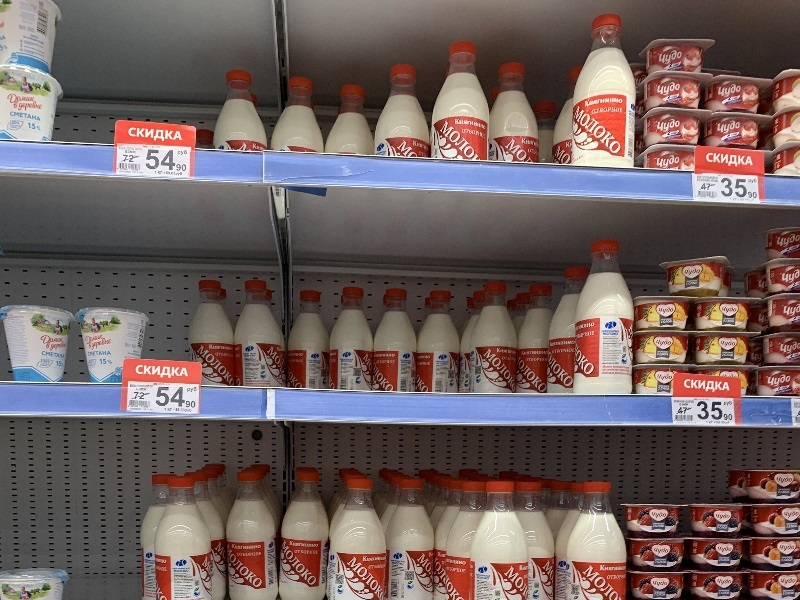milk: (571, 13, 647, 172), (573, 237, 644, 397), (218, 467, 285, 599), (323, 473, 393, 597), (155, 475, 215, 598), (276, 468, 330, 598), (474, 279, 519, 395)
